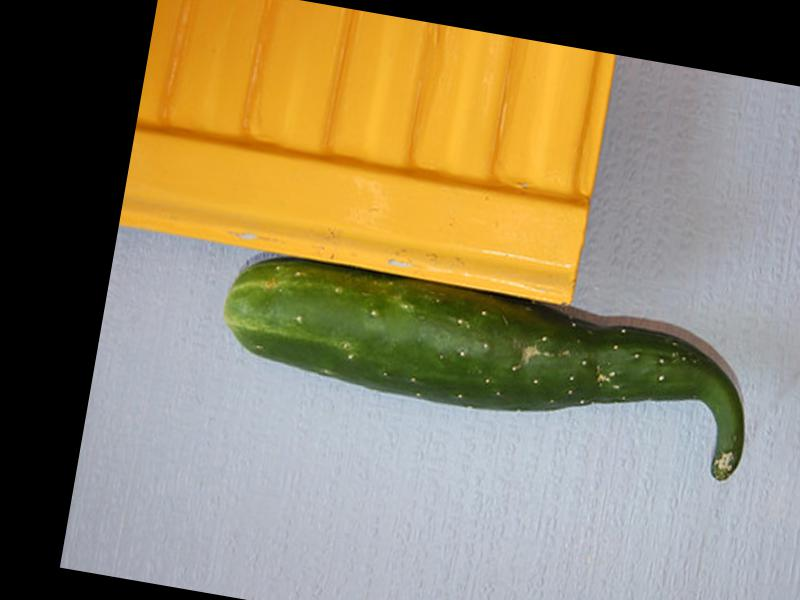Cucumber: (213, 246, 764, 484)
